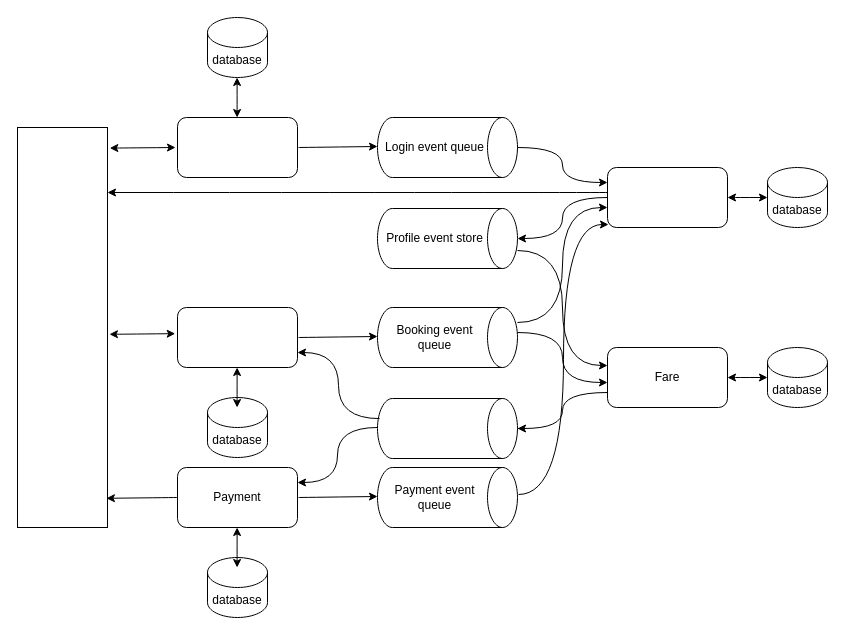
This 845x635 diagram has some shape labels left out. The centre of each missing label's shape, as x and y in pixels:
"API Gateway" belongs at (62,327).
"Booking" belongs at (237,337).
"Fare event queue" belongs at (447,428).
"Login" belongs at (237,147).
"User Profile" belongs at (667,197).
